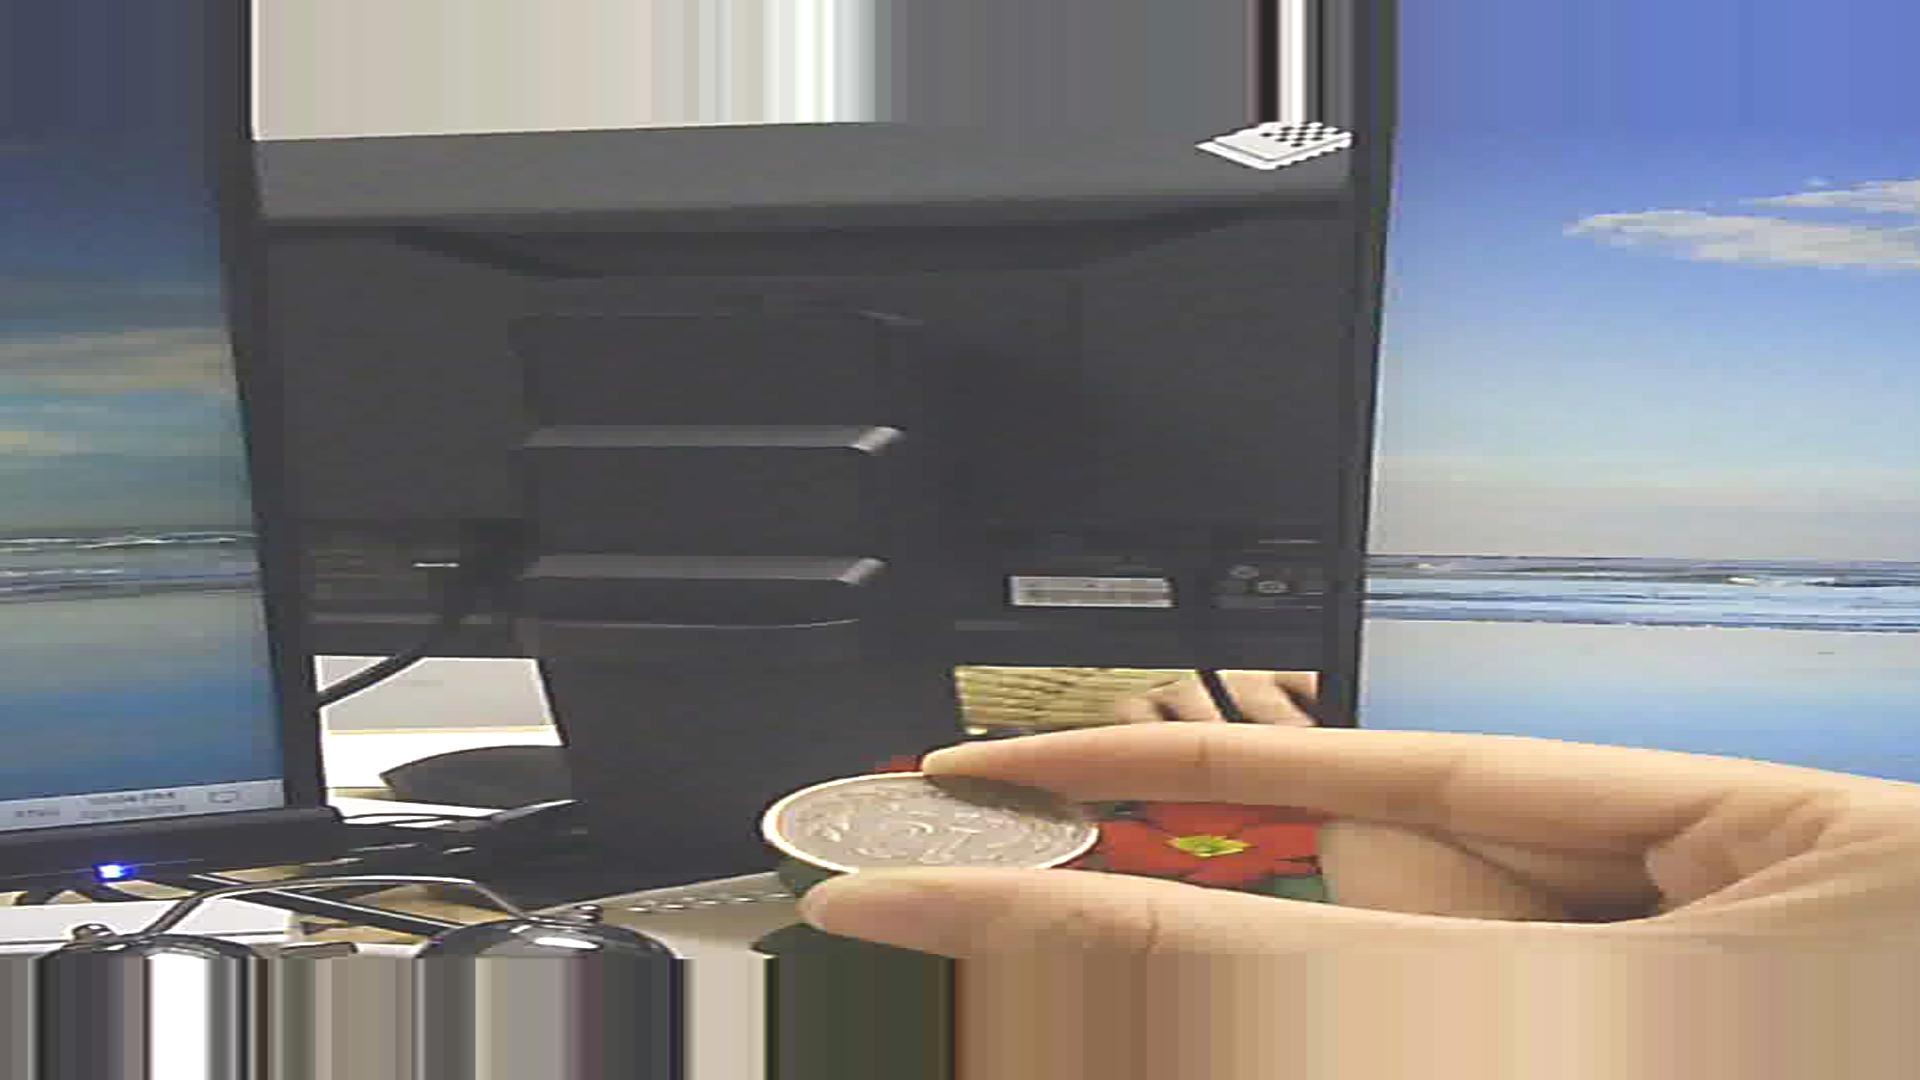10 Yen: (744, 765, 1105, 889)
